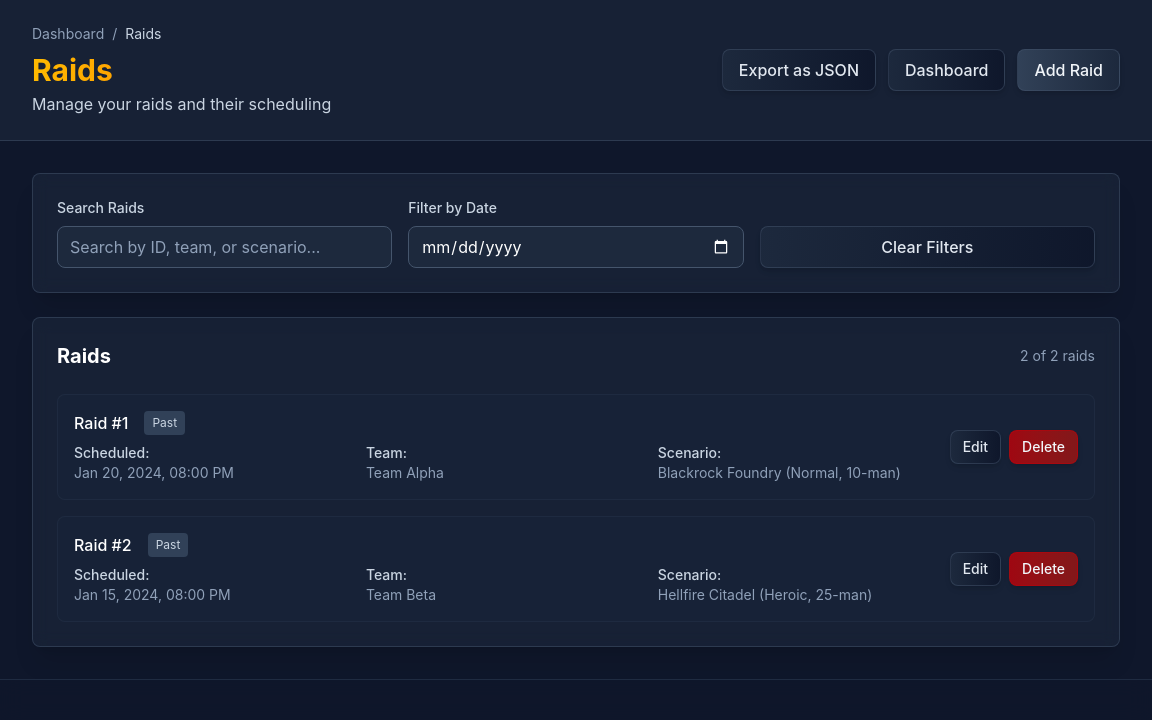
Test case: Raids › should show edit raid form when edit button is clicked
The image size is (1152, 720).
Expected: the text "Raid #1" is shown, left=74, top=411, right=128, bottom=435
Click the 1st button "Edit" at (975,447), box left=950, top=430, right=1001, bottom=464
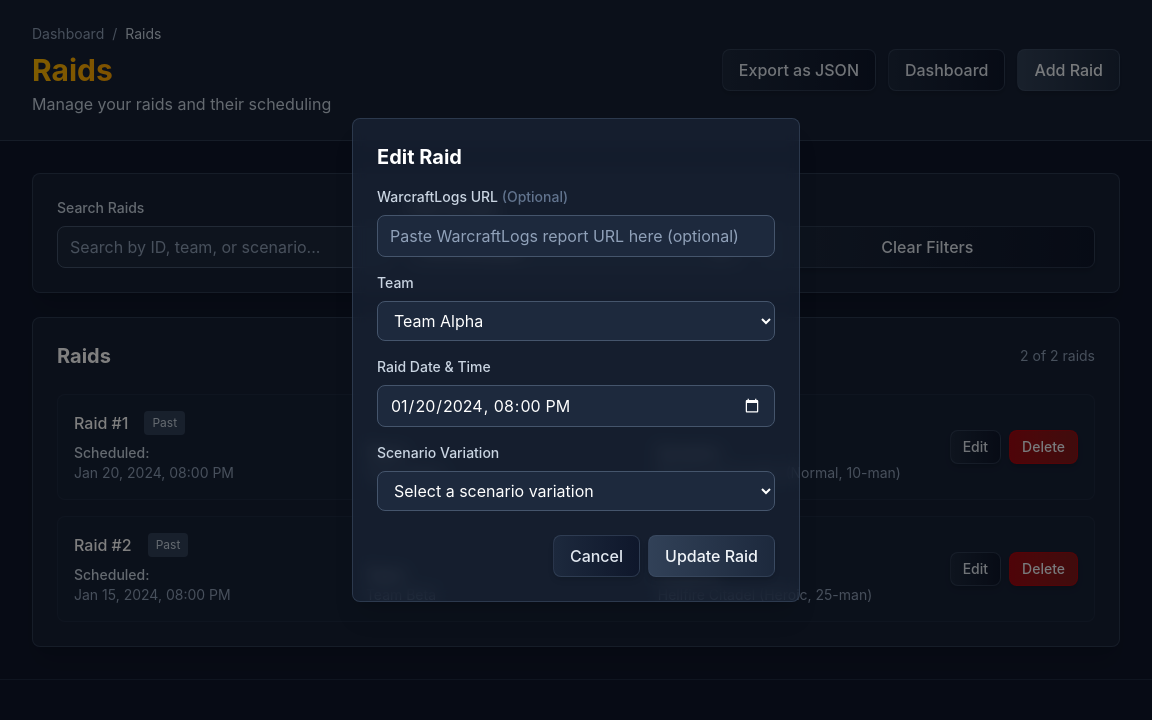
Expected: the heading "Edit Raid" is shown, left=377, top=145, right=462, bottom=169
